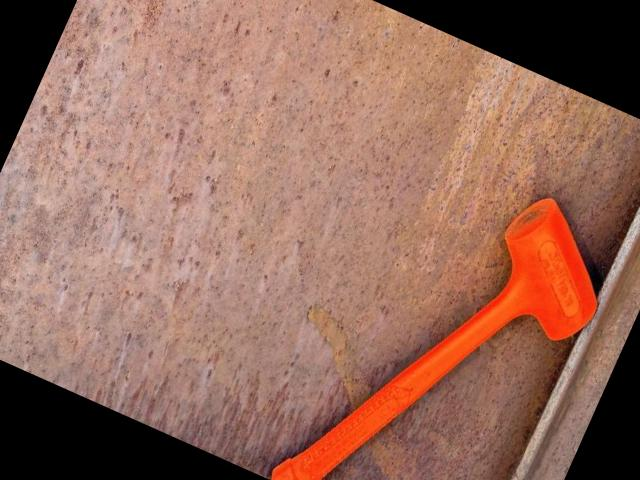hammer: (266, 140, 628, 480)
